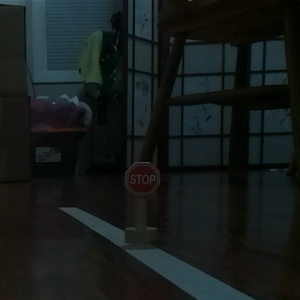stop sign: (121, 159, 163, 245)
